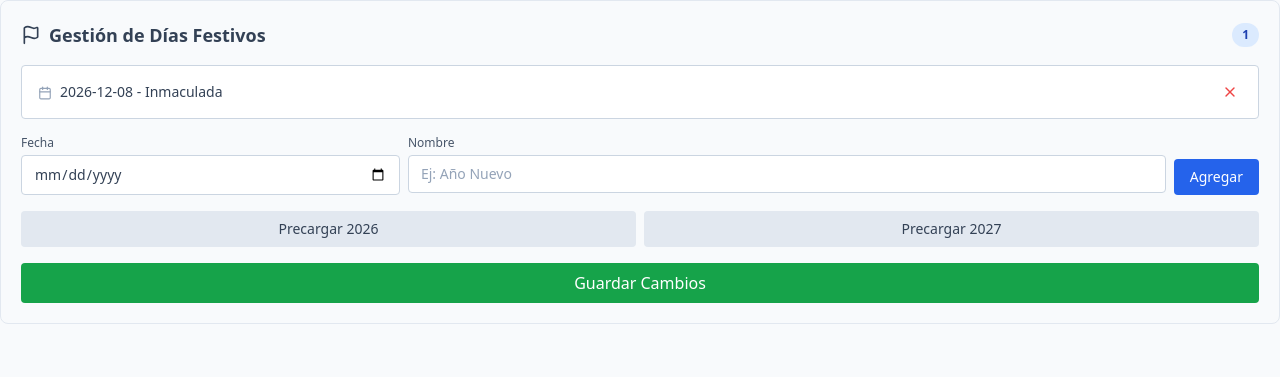
Scenario: HolidayManager › shows error feedback when save fails
Expected: the text "2026-12-08 - Inmaculada" is shown, [38,82,222,102]
Click the button "Guardar Cambios".
click(640, 283)  # box [21,263,1259,303]
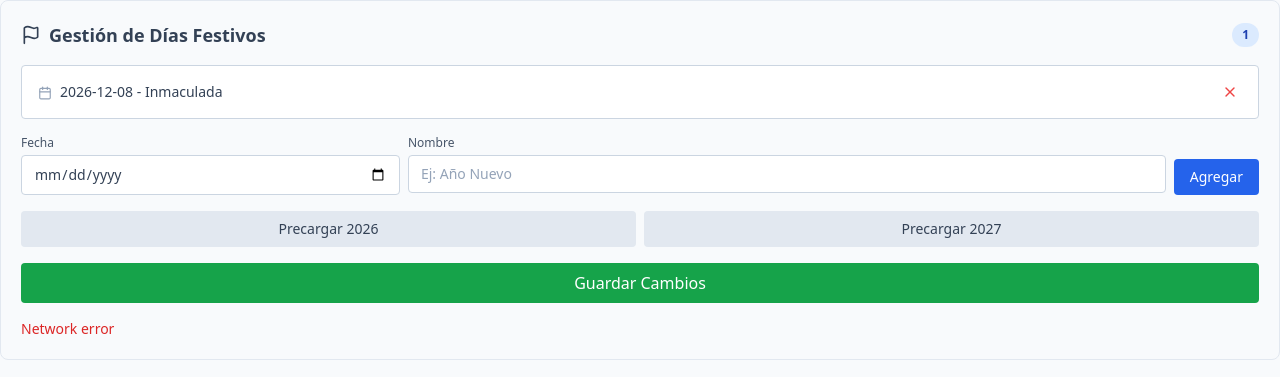
Expected: the text "Network error" is shown, [21,319,114,338]
